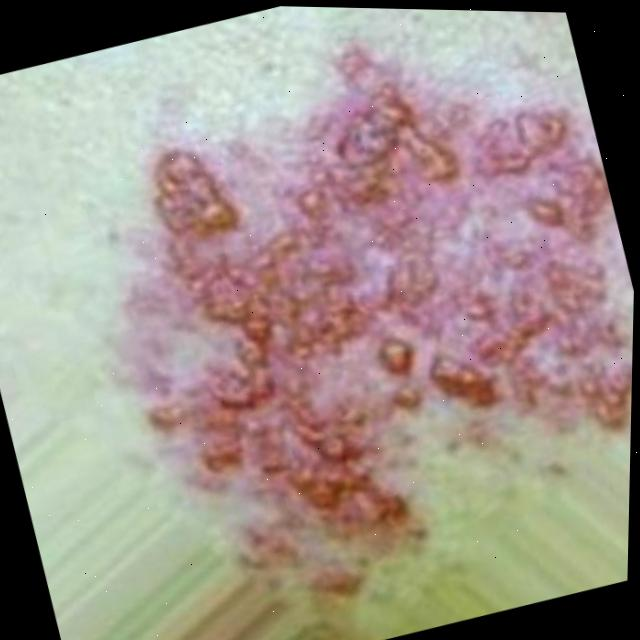Shingles: (64, 2, 640, 636)
